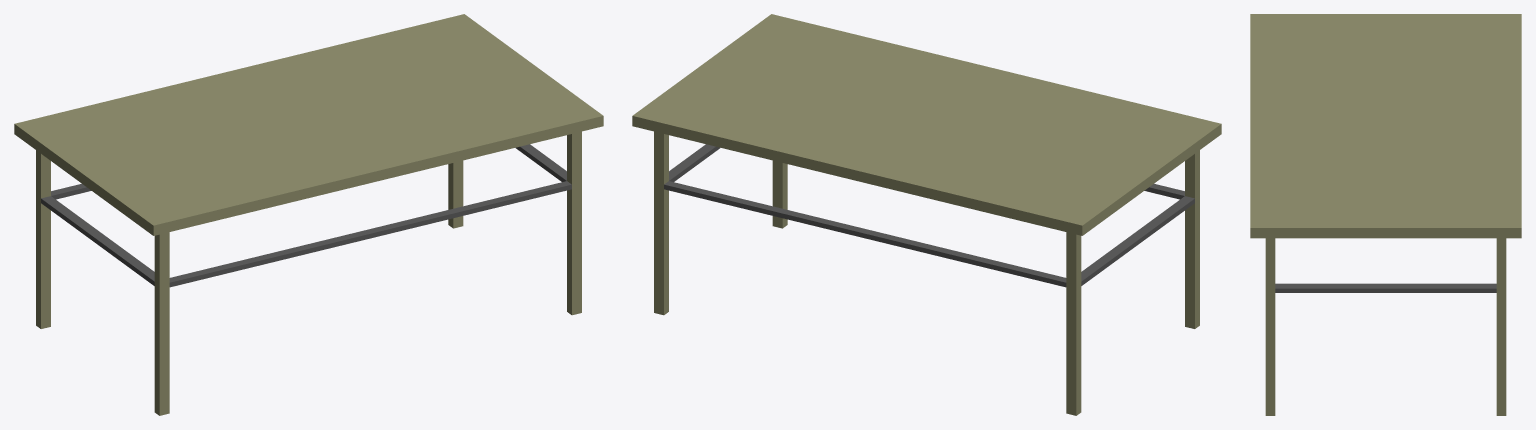
Rendered from tafel_3.fbx.
3 renders of one model, left to right at view 1: azimuth 30°, elevation 25°; view 2: azimuth 150°, elevation 25°; view 3: azimuth 270°, elevation 25°, orthographic. The views are drawn at different scales.
Parts seen in each view (by area): view 1: Cube.010; view 2: Cube.010; view 3: Cube.010.
Part boxes in pixels (left/top/right/bottom): Cube.010: left=14, top=14, right=603, bottom=415; Cube.010: left=632, top=14, right=1221, bottom=415; Cube.010: left=1250, top=14, right=1521, bottom=415.
Size of the model in its own units: 374 by 158 by 200.
